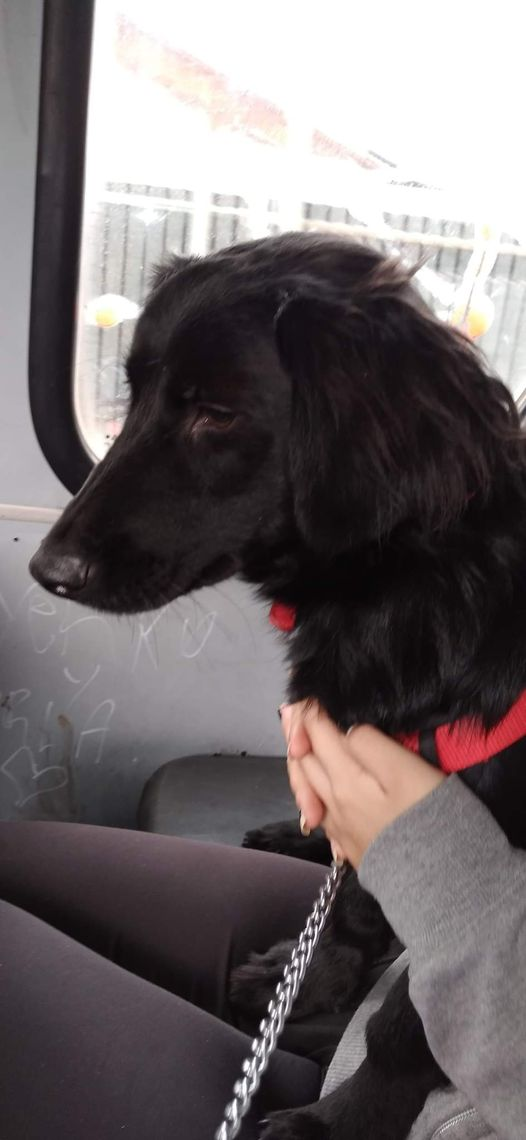dog: (30, 197, 480, 1121)
